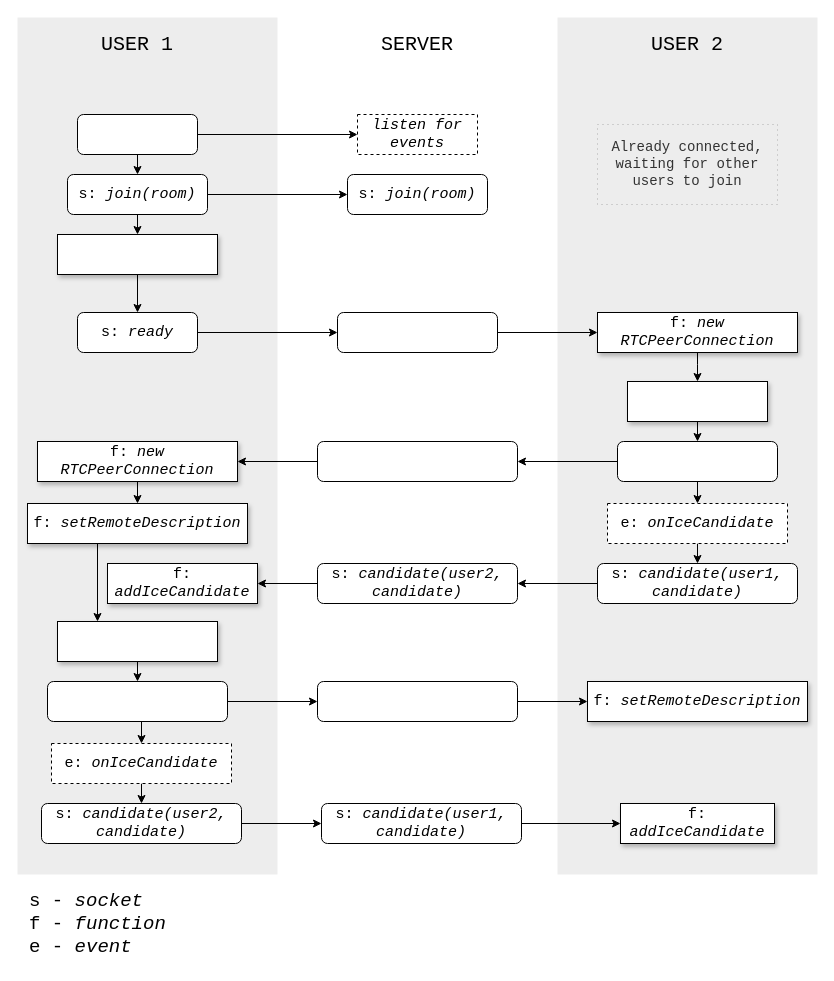
Image size: 834x981. Some labels were removed from this diagram. The shapes that lost their labels are listed below. From the top down, each one's centre as x and y in pixels, then its label:
At point (137, 134): "s: connect".
At point (138, 256): "f: getUserMedia".
At point (417, 332): "s: ready(user1)".
At point (698, 402): "f: createOffer".
At point (417, 461): "s: offer(user2, pc.description)".
At point (697, 461): "s: offer(user1, pc.description)".
At point (138, 642): "f: createAnswer".
At point (137, 701): "s: answer(user2, pc.description)".
At point (417, 701): "s: answer(user1, pc.description)".
